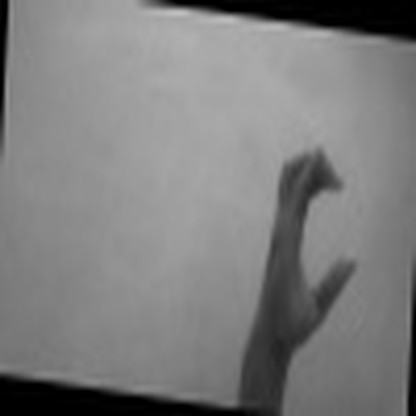c: (258, 139, 361, 340)
